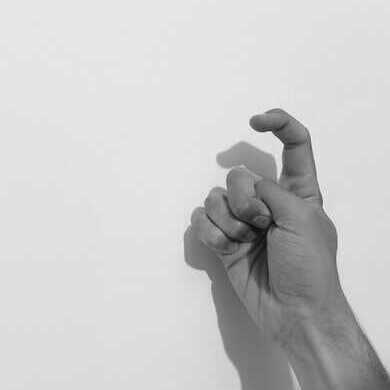X: (190, 108, 338, 349)
